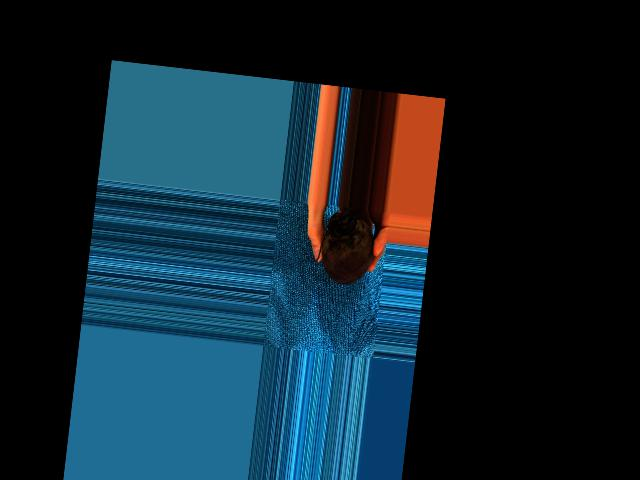beet: (311, 205, 377, 287)
